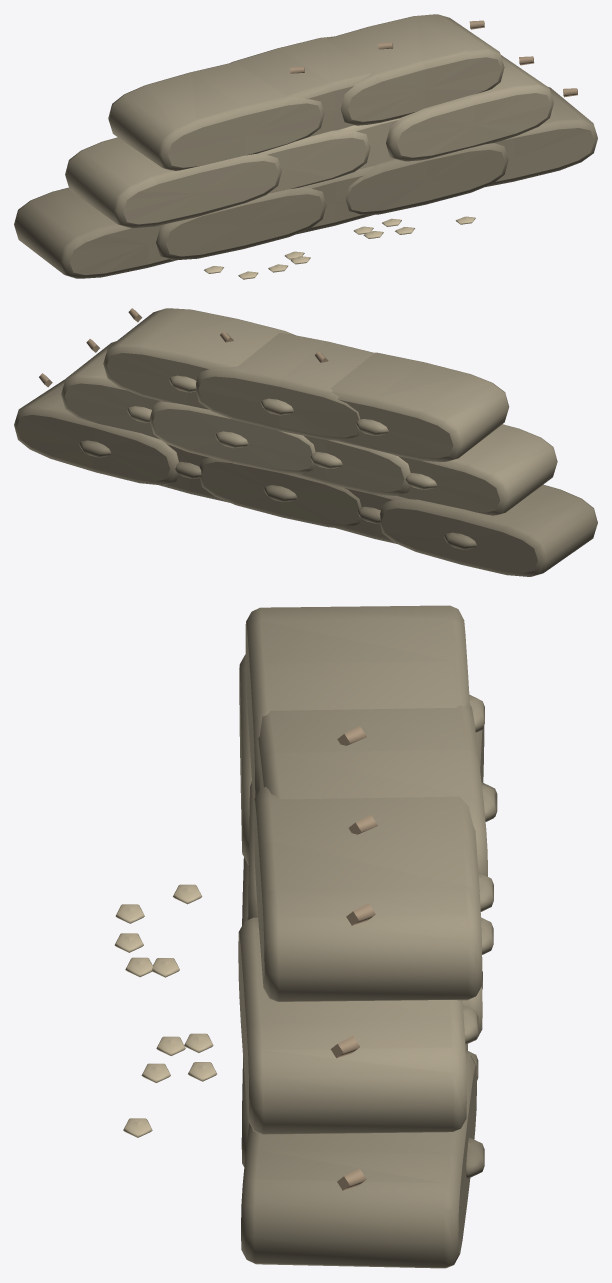
Rendered from storm_sandbags_a.glb.
3 views of the same model, one above another, from view 1: azimuth 30°, elevation 25°; view 2: azimuth 150°, elevation 25°; view 3: azimuth 270°, elevation 25° (orthographic). The views are drawn at different scales.
Parts seen in each view (by area): view 1: body; view 2: body; view 3: body.
Part boxes in pixels (x1,y1,x2,y2): body: (14,14,597,279); body: (14,308,597,576); body: (114,605,497,1268).
Size of the model in its own units: 1.59 by 0.4149 by 0.4924.
